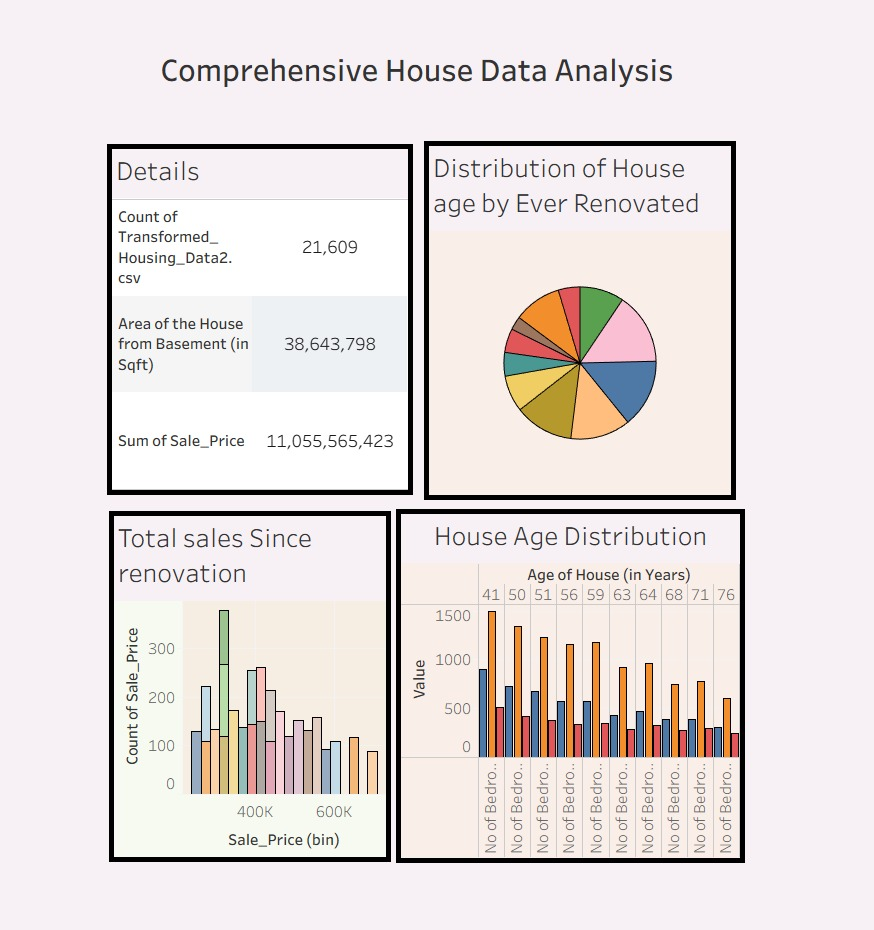

The page's visual inventory and layout, read from the dashboard file:
{"tool":"tableau","page":{"name":"Dashboard 1","canvas":[650,860],"ordinal":0},"visuals":[{"type":"title","box":[8,8,634,102]},{"type":"worksheet","title":"Sheet 4","mark":"Pie","box":[332,131,312,359]},{"type":"worksheet","title":"Sheet 2","mark":"Automatic","box":[15,134,306,351]},{"type":"worksheet","title":"Sheet 5","mark":"Automatic","cols":["Age of House (in Years)"],"box":[304,499,349,354]},{"type":"worksheet","title":"Sheet 3","mark":"Automatic","rows":["Sale_Price"],"cols":["Sale_Price (bin)"],"box":[17,501,282,351]}]}

Visuals, with their boxes on the page's 650x860 design canvas (x1, y1, x2, y2). These are canvas units, not pixel positions in the 874x930 screenshot, which may show the page scaled, cropped or inside an application window:
title: [8, 8, 642, 110]
"Sheet 4" worksheet (Pie marks): [332, 131, 644, 490]
"Sheet 2" worksheet: [15, 134, 321, 485]
"Sheet 5" worksheet: [304, 499, 653, 853]
"Sheet 3" worksheet: [17, 501, 299, 852]
